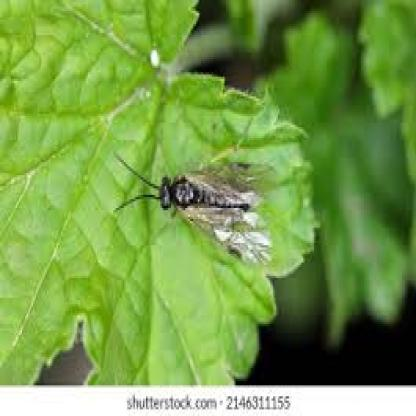sawfly: (109, 150, 287, 271)
